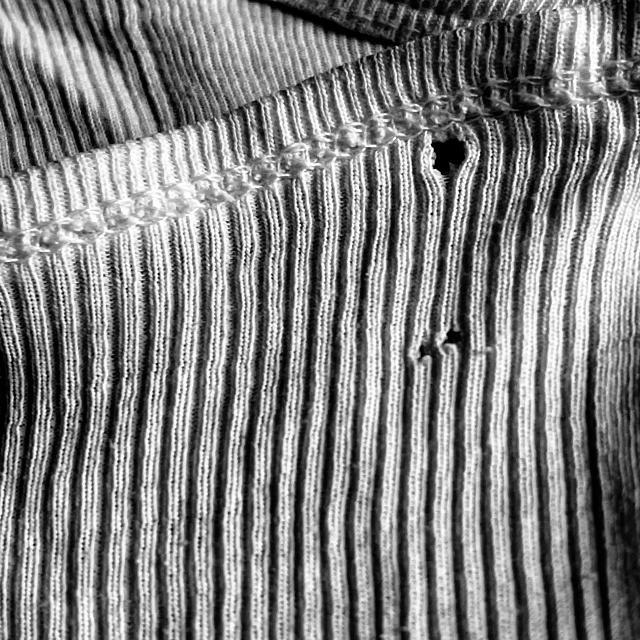Hole: (415, 122, 482, 178), (407, 323, 472, 360)
